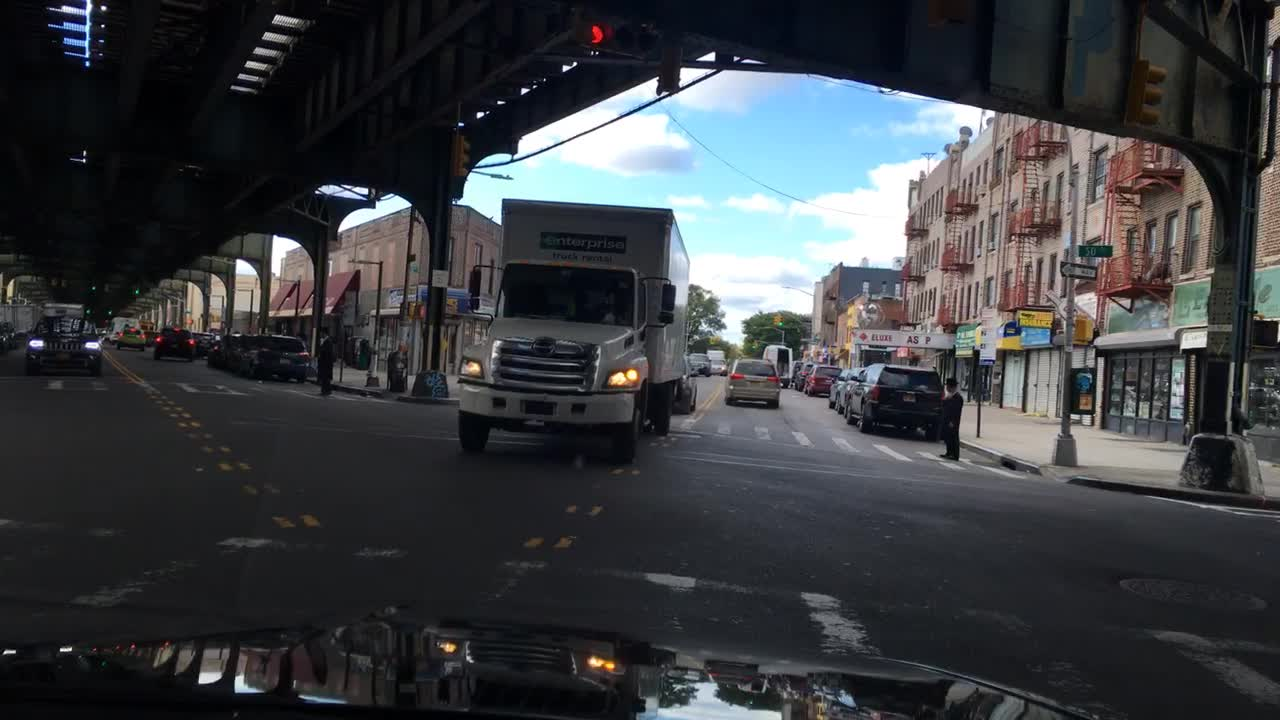car: (843, 362, 950, 442), (24, 311, 105, 374), (231, 331, 311, 382), (721, 356, 783, 409), (832, 365, 869, 414), (207, 331, 254, 366), (150, 325, 195, 359), (761, 343, 793, 388), (803, 362, 844, 396), (674, 366, 697, 416), (826, 366, 853, 408), (107, 314, 141, 343), (190, 330, 218, 359), (113, 325, 145, 350), (686, 350, 715, 377), (795, 360, 818, 391), (0, 317, 18, 354), (133, 327, 161, 348), (709, 357, 729, 377), (792, 359, 806, 386), (704, 348, 727, 360), (12, 327, 29, 342), (136, 316, 156, 328), (98, 330, 113, 345), (95, 325, 110, 337)
person: (931, 373, 965, 462), (311, 323, 340, 395)
traffic light: (1126, 47, 1169, 127), (655, 43, 678, 96), (454, 135, 469, 185), (1075, 315, 1097, 346), (587, 27, 622, 44), (406, 299, 427, 319), (444, 297, 458, 316), (837, 348, 851, 361), (708, 334, 722, 345), (750, 339, 762, 350), (132, 287, 144, 298), (771, 312, 779, 327), (777, 316, 787, 328), (207, 314, 222, 322), (89, 284, 102, 293), (84, 307, 96, 316)
traffic sign: (977, 306, 1002, 366), (1060, 261, 1100, 281), (1077, 242, 1116, 257), (430, 268, 452, 287)
truck: (450, 195, 689, 461)
